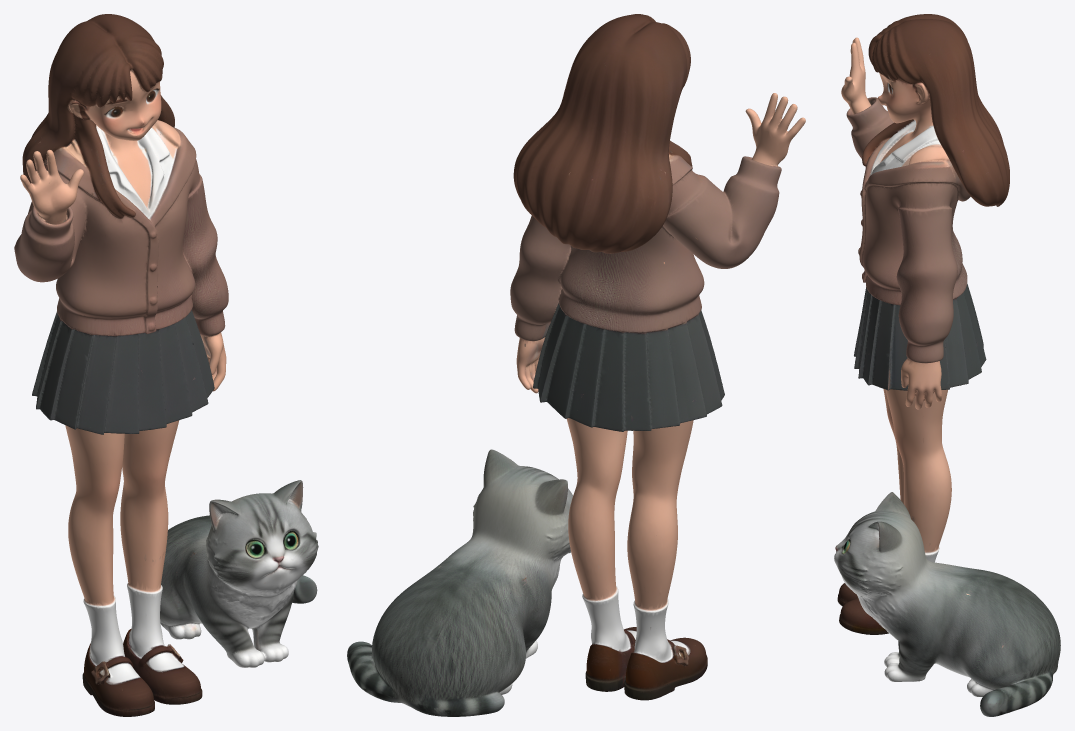
Rendered from asset.glb.
3 views of the same model, side by side, from view 1: azimuth 30°, elevation 25°; view 2: azimuth 150°, elevation 25°; view 3: azimuth 270°, elevation 25° (orthographic). The views are drawn at different scales.
Size of the model in its own units: 1.12 by 1.9 by 0.6571.
1 material, 1 textured.
